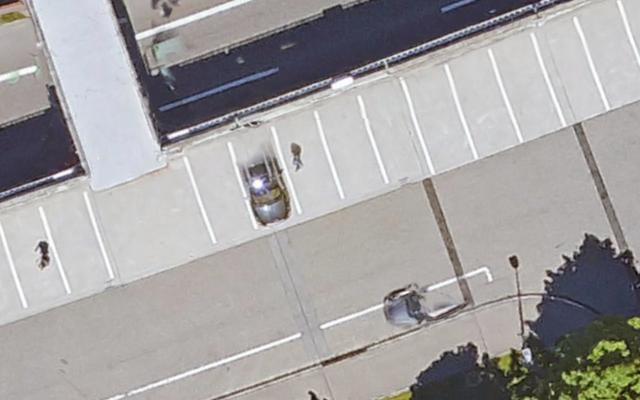tree: (554, 320, 640, 399)
